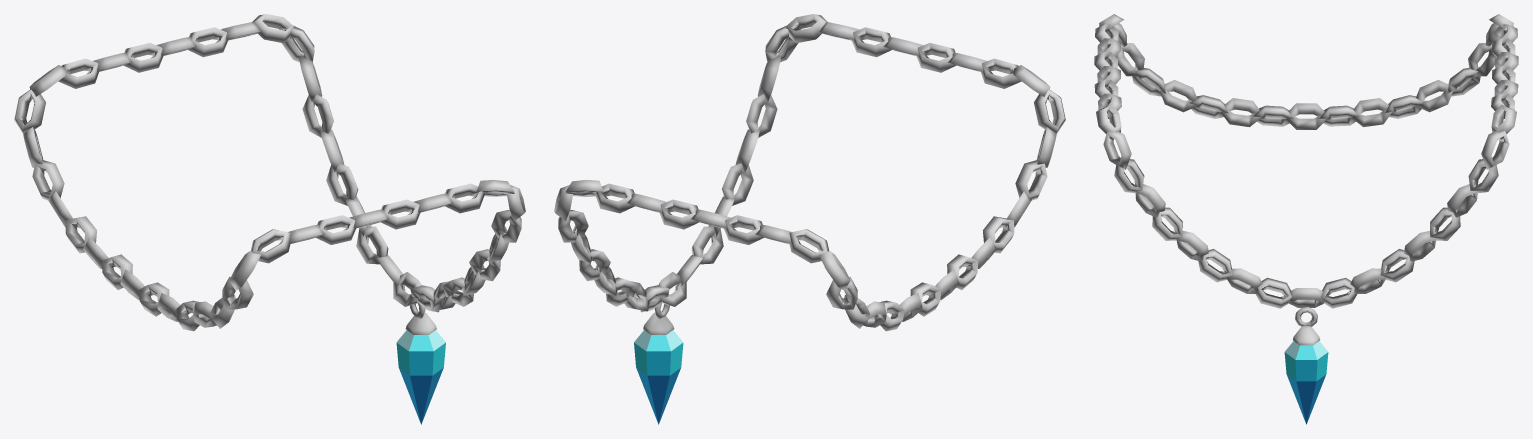
Rendered from acc_chain.glb.
3 views of the same model, side by side, from view 1: azimuth 30°, elevation 25°; view 2: azimuth 150°, elevation 25°; view 3: azimuth 270°, elevation 25° (orthographic). The views are drawn at different scales.
Visible parts, largest first — view 1: acc_chain, Glow; view 2: acc_chain, Glow; view 3: acc_chain, Glow.
Boxes of the visible parts, x1,y1,x2,y2 form: acc_chain: [14, 14, 525, 334]; Glow: [396, 330, 445, 424]; acc_chain: [554, 14, 1065, 334]; Glow: [634, 330, 683, 424]; acc_chain: [1094, 14, 1518, 345]; Glow: [1284, 341, 1328, 424].
Size of the model in its own units: 0.499 by 0.5116 by 0.6577.
